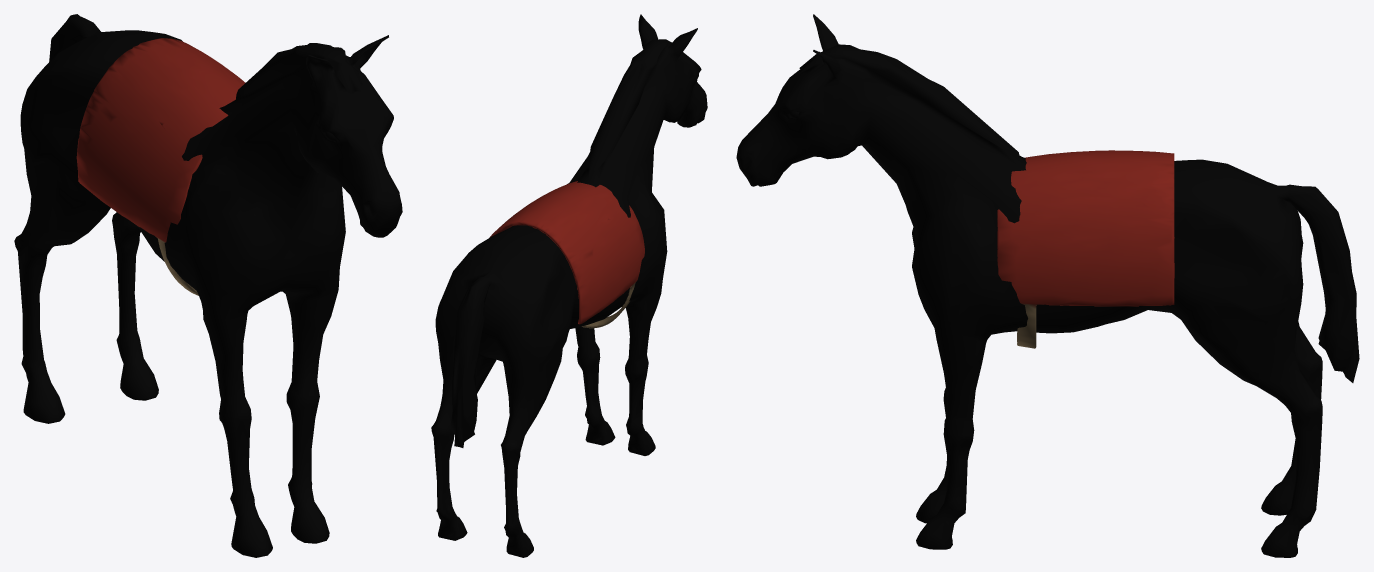
File: horse_saddle.glb
3 renders of one model, left to right at view 1: azimuth 30°, elevation 25°; view 2: azimuth 150°, elevation 25°; view 3: azimuth 270°, elevation 25°, orthographic. The views are drawn at different scales.
Parts seen in each view (by area): view 1: lod0; view 2: lod0; view 3: lod0.
Boxes of the visible parts, x1=… form: lod0: x1=14, y1=14, x2=402, y2=557; lod0: x1=431, y1=14, x2=707, y2=557; lod0: x1=736, y1=14, x2=1359, y2=557.
Size of what is drawn, in the model's own units: 0.5079 by 1.73 by 1.96.
